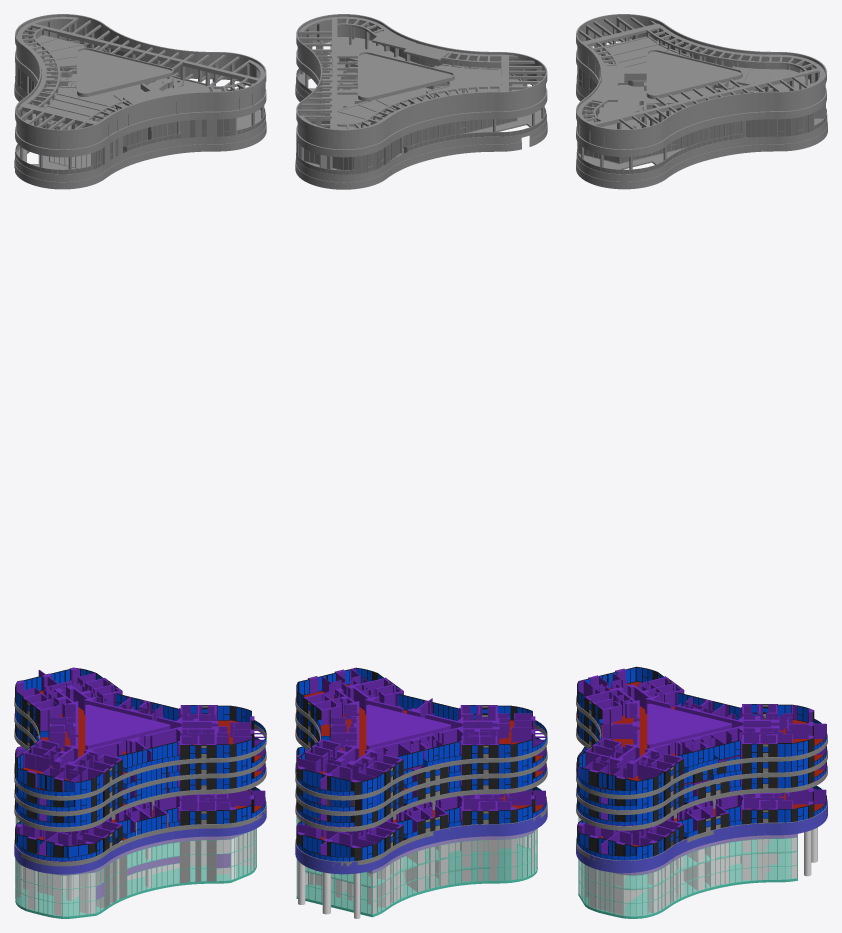
File: Gindi_MainBuilding_js_2.fbx
3 renders of one model, left to right at view 1: azimuth 30°, elevation 25°; view 2: azimuth 150°, elevation 25°; view 3: azimuth 270°, elevation 25°, orthographic.
Parts seen in each view (by area): view 1: wall_roof, Glass, panel_roof, Wall, APT_21-43_Int_5P_001, Windows, Floor, APT_21-43_Int_5P, hall_21-43, glass_roof, APT_21-43_Int_3M_001, APT_5-7_Int_3Rs (+25 smaller); view 2: wall_roof, Glass, panel_roof, Wall, Floor, glass_roof, APT_21-43_Int_5R_001, APT_21-43_Int_5P_001, Windows, Decoration, floor_roof, hall_21-43 (+21 smaller); view 3: wall_roof, Glass, panel_roof, Wall, APT_21-43_Int_5P, APT_21-43_Int_5R, Floor, glass_roof, Windows, Decoration, hall_21-43, floor_roof (+21 smaller).
Part boxes in pixels (left/top/right/bottom): wall_roof: left=14, top=14, right=266, bottom=189; Glass: left=15, top=817, right=256, bottom=916; panel_roof: left=15, top=21, right=265, bottom=181; Wall: left=16, top=818, right=255, bottom=915; APT_21-43_Int_5P_001: left=14, top=746, right=107, bottom=800; Windows: left=15, top=817, right=256, bottom=916; Floor: left=15, top=842, right=256, bottom=918; APT_21-43_Int_5P: left=198, top=705, right=266, bottom=762; hall_21-43: left=78, top=704, right=170, bottom=757; glass_roof: left=15, top=43, right=265, bottom=174; APT_21-43_Int_3M_001: left=133, top=726, right=215, bottom=769; APT_5-7_Int_3Rs: left=38, top=827, right=115, bottom=866; wall_roof: left=295, top=14, right=547, bottom=189; Glass: left=296, top=816, right=537, bottom=914; panel_roof: left=296, top=21, right=546, bottom=182; Wall: left=297, top=818, right=533, bottom=918; Floor: left=296, top=822, right=537, bottom=917; glass_roof: left=296, top=68, right=546, bottom=174; APT_21-43_Int_5R_001: left=319, top=742, right=418, bottom=800; APT_21-43_Int_5P_001: left=478, top=705, right=547, bottom=762; Windows: left=296, top=816, right=537, bottom=914; Decoration: left=295, top=767, right=547, bottom=874; floor_roof: left=297, top=36, right=544, bottom=177; hall_21-43: left=359, top=704, right=450, bottom=757; wall_roof: left=576, top=14, right=827, bottom=189; Glass: left=578, top=817, right=797, bottom=916; panel_roof: left=576, top=21, right=827, bottom=181; Wall: left=579, top=818, right=817, bottom=914; APT_21-43_Int_5P: left=576, top=751, right=677, bottom=799; APT_21-43_Int_5R: left=711, top=724, right=827, bottom=765; Floor: left=578, top=838, right=797, bottom=918; glass_roof: left=577, top=67, right=826, bottom=174; Windows: left=578, top=817, right=797, bottom=916; Decoration: left=576, top=763, right=827, bottom=872; hall_21-43: left=639, top=703, right=731, bottom=756; floor_roof: left=578, top=41, right=827, bottom=169.
Size of the model in its own units: 5193 by 16410 by 4741.
